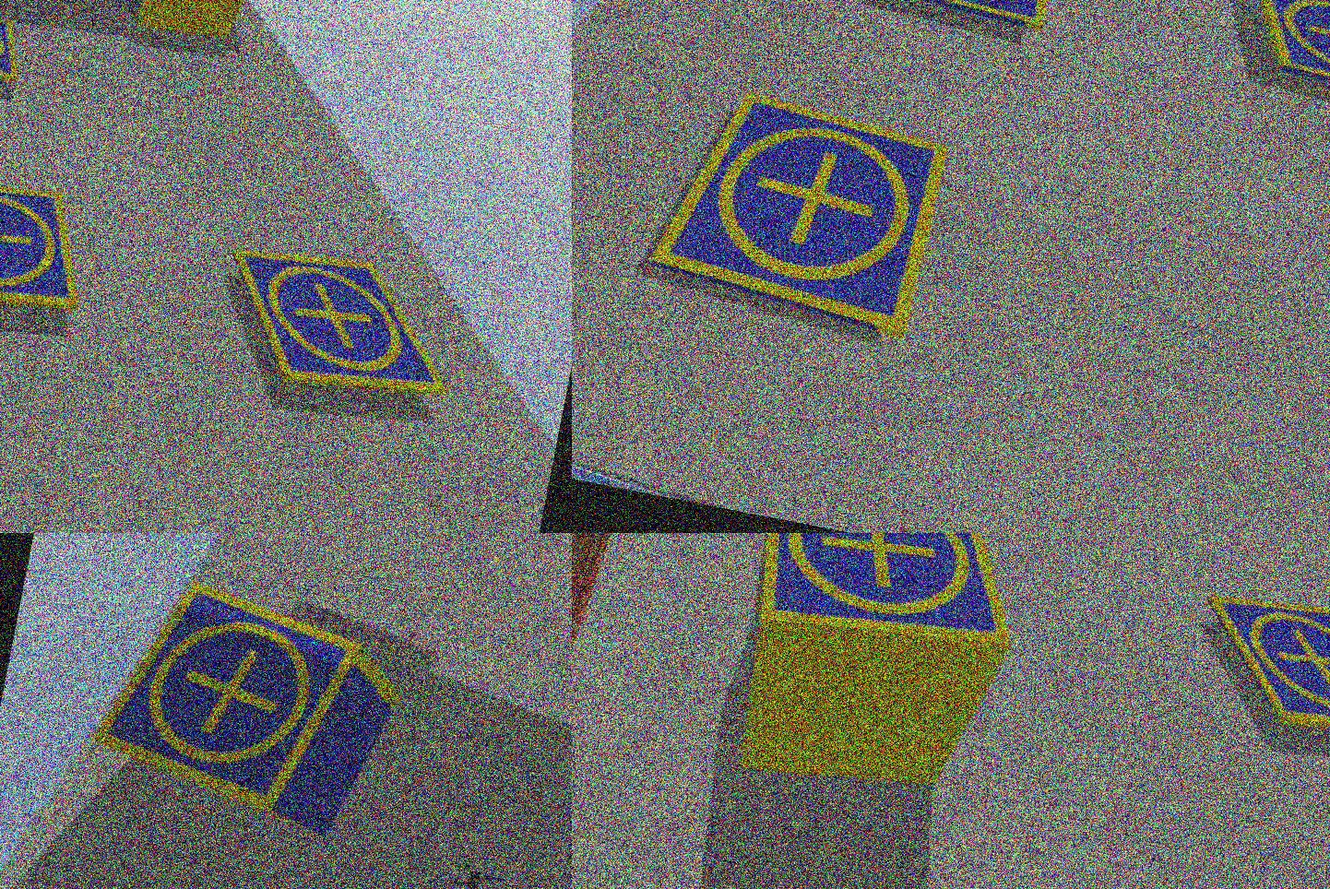small_base: (639, 76, 959, 354), (81, 564, 373, 830), (214, 236, 469, 411), (742, 534, 1038, 670), (1187, 580, 1330, 750), (1, 168, 101, 336), (1237, 1, 1330, 121), (877, 1, 1065, 37), (1, 1, 30, 88)
